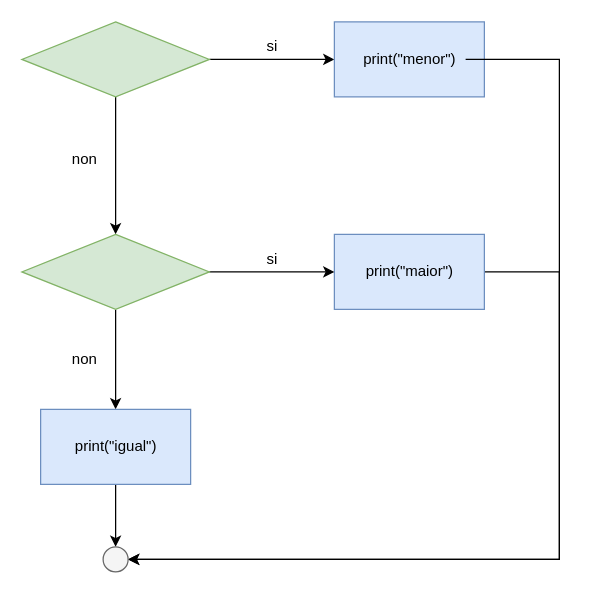
The diagram is 591 pixels wide and 594 high, and some of its shapes have lost their labels. The box of each missing label's shape, as (x1, y1, x2, y2) in pixels:
x < y: (21, 21, 209, 97)
x > y: (21, 233, 209, 309)
